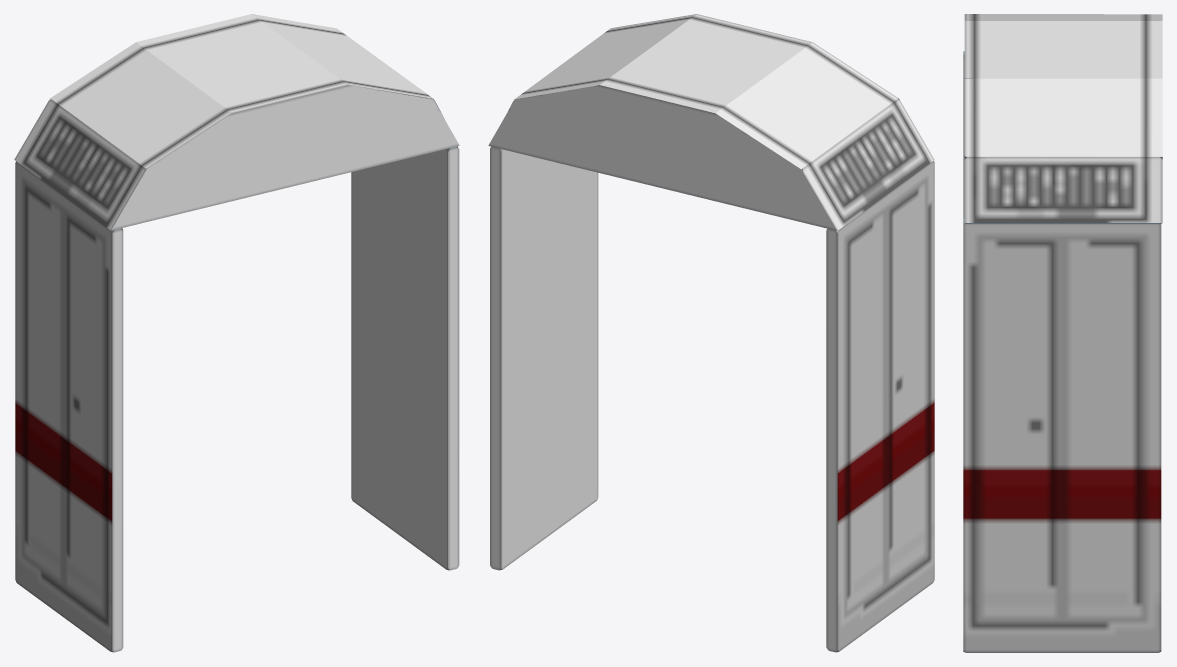
The model's file is df7g_enclosure_a.obj.
3 renders of one model, left to right at view 1: azimuth 30°, elevation 25°; view 2: azimuth 150°, elevation 25°; view 3: azimuth 270°, elevation 25°, orthographic.
Parts seen in each view (by area): view 1: df7g_enclosure_a; view 2: df7g_enclosure_a; view 3: df7g_enclosure_a.
Boxes of the visible parts, x1,y1,x2,y2 form: df7g_enclosure_a: [14, 14, 459, 652]; df7g_enclosure_a: [488, 14, 934, 652]; df7g_enclosure_a: [963, 14, 1162, 652].
Size of the model in its own units: 1.95 by 2.72 by 0.9438.
